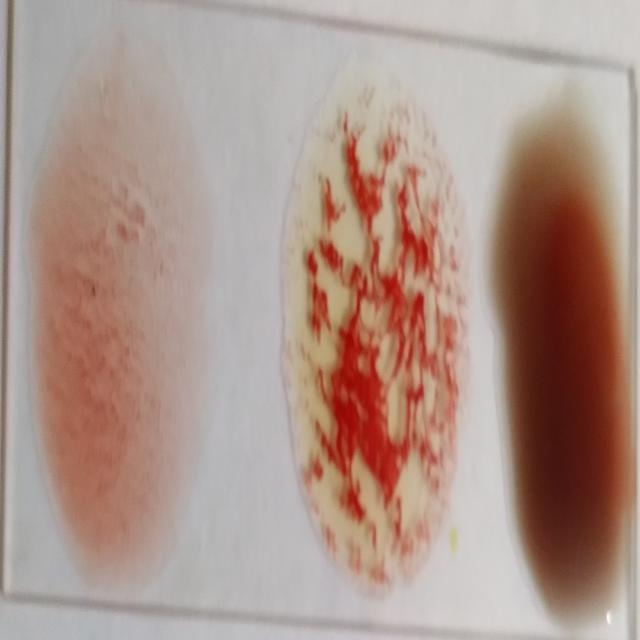B: (295, 99, 466, 581)
D: (37, 59, 185, 573)
